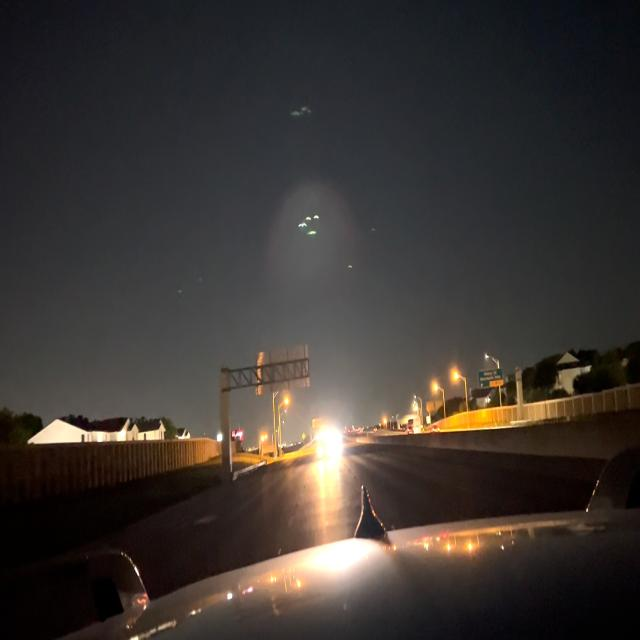back-of-sign: (255, 344, 311, 398)
